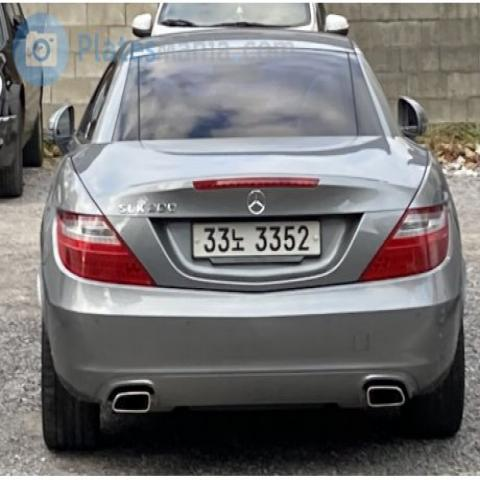LP: (183, 210, 327, 268)
